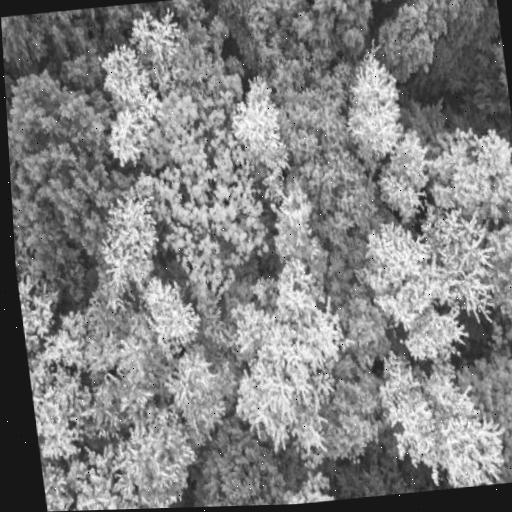tree-top: (143, 85, 271, 301), (225, 260, 354, 468), (4, 64, 127, 270), (278, 58, 381, 256), (384, 350, 512, 494), (213, 0, 383, 81), (77, 300, 179, 429), (23, 317, 103, 459), (184, 419, 312, 507), (324, 252, 403, 376), (166, 11, 246, 124), (95, 44, 164, 174), (366, 224, 446, 330), (115, 403, 192, 509), (339, 48, 407, 168), (261, 169, 334, 275), (426, 120, 512, 206), (432, 208, 500, 316), (316, 369, 393, 463), (159, 349, 234, 445), (366, 0, 447, 84), (95, 196, 165, 293), (484, 159, 512, 390), (324, 442, 431, 500), (58, 432, 136, 511), (468, 351, 512, 486), (378, 133, 434, 232), (143, 277, 202, 359), (402, 87, 472, 152), (403, 302, 469, 369), (223, 90, 287, 156), (17, 271, 61, 352), (428, 99, 488, 153), (1, 13, 52, 73), (132, 11, 182, 68), (487, 21, 512, 125), (435, 0, 501, 35), (234, 260, 279, 303), (41, 463, 77, 512)
